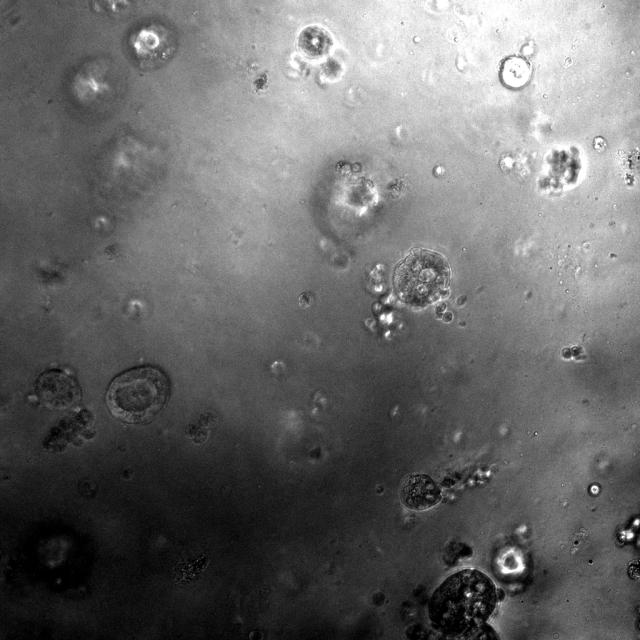organoid: (405, 567, 504, 639), (34, 368, 94, 450), (105, 365, 171, 424), (393, 247, 450, 307), (364, 264, 405, 339), (297, 24, 345, 84), (538, 145, 582, 195), (401, 473, 441, 510), (172, 552, 209, 584), (440, 535, 474, 568), (499, 56, 531, 89), (187, 413, 219, 444), (561, 344, 586, 361), (435, 301, 453, 323), (626, 558, 639, 580), (372, 591, 386, 607), (456, 294, 467, 307)
